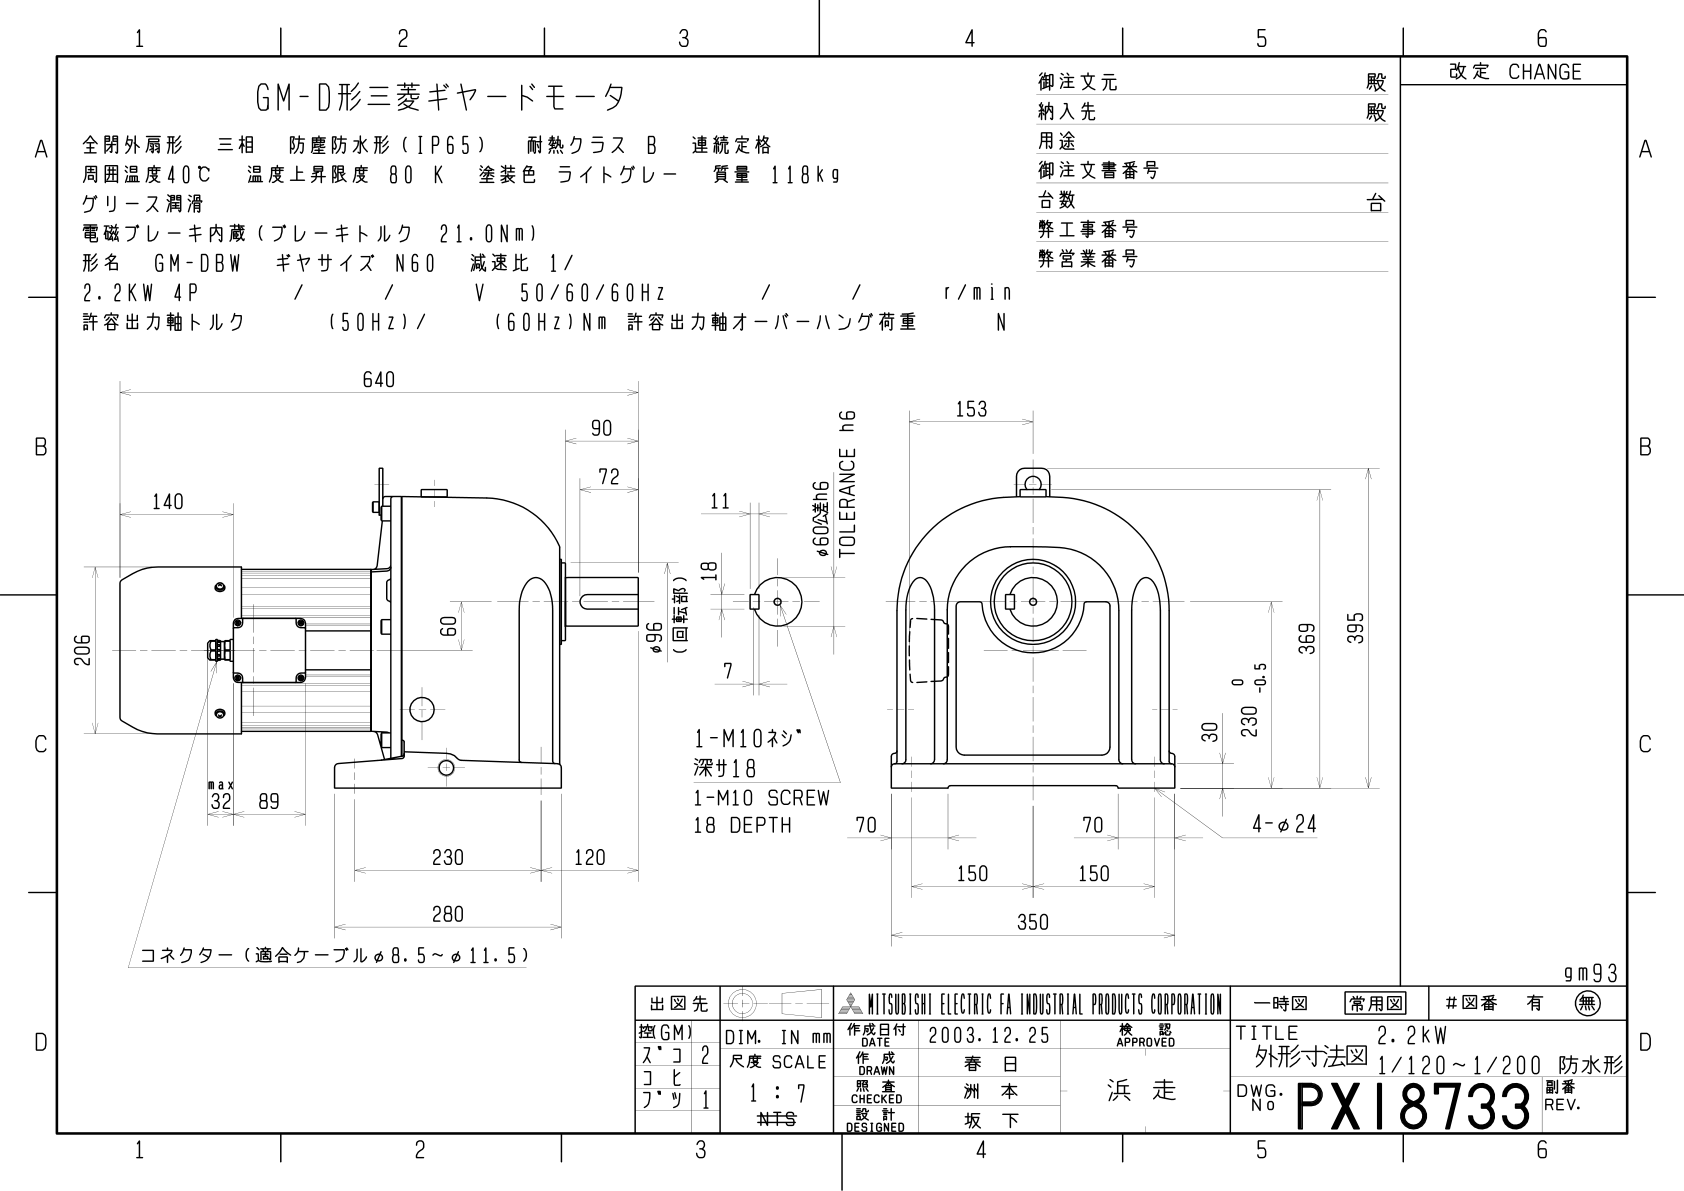GM_D_IP65_三相_脚: (70, 345, 1389, 963)
